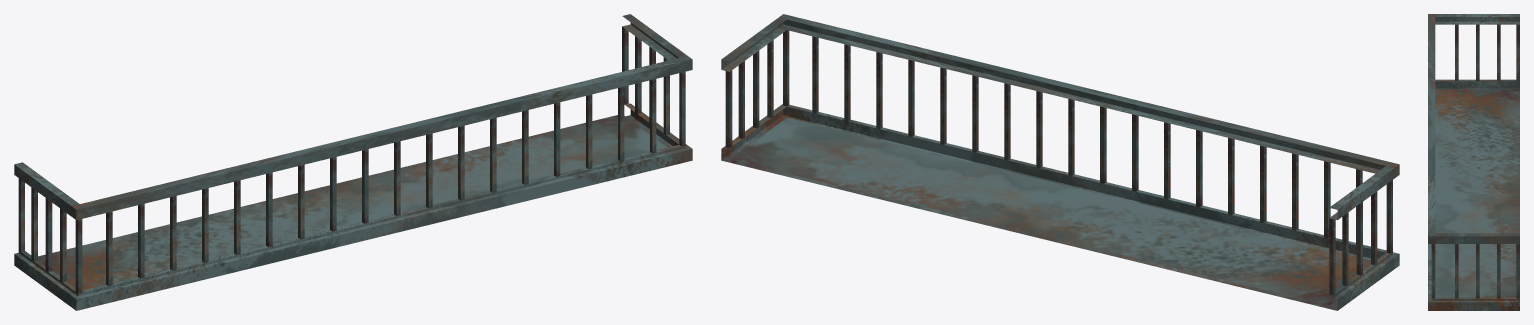
File: VarandaGradeGrande 1.fbx
The picture shows the model from 3 angles, left to right: view 1: azimuth 30°, elevation 25°; view 2: azimuth 150°, elevation 25°; view 3: azimuth 270°, elevation 25°; orthographic projection. The views are drawn at different scales.
Visible parts, largest first — view 1: VarandaGradeGrande; view 2: VarandaGradeGrande; view 3: VarandaGradeGrande.
Boxes of the visible parts, box(x1,y1,x2,y2) form: VarandaGradeGrande: box(14, 14, 692, 310); VarandaGradeGrande: box(721, 14, 1399, 310); VarandaGradeGrande: box(1428, 14, 1519, 310).
Size of the model in its own units: 1371 by 215 by 240.
